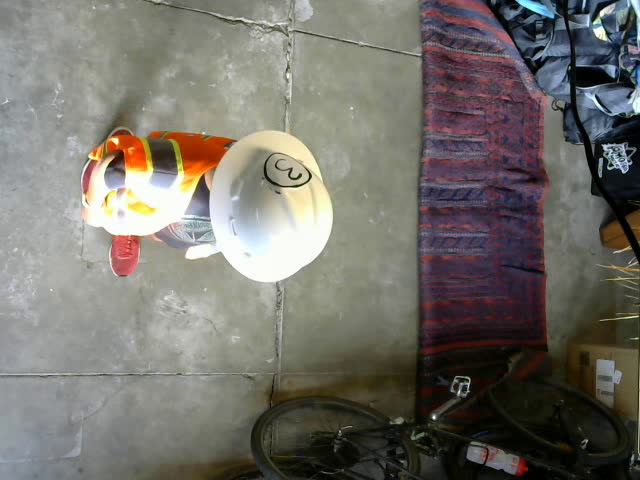three: (264, 153, 310, 187)
